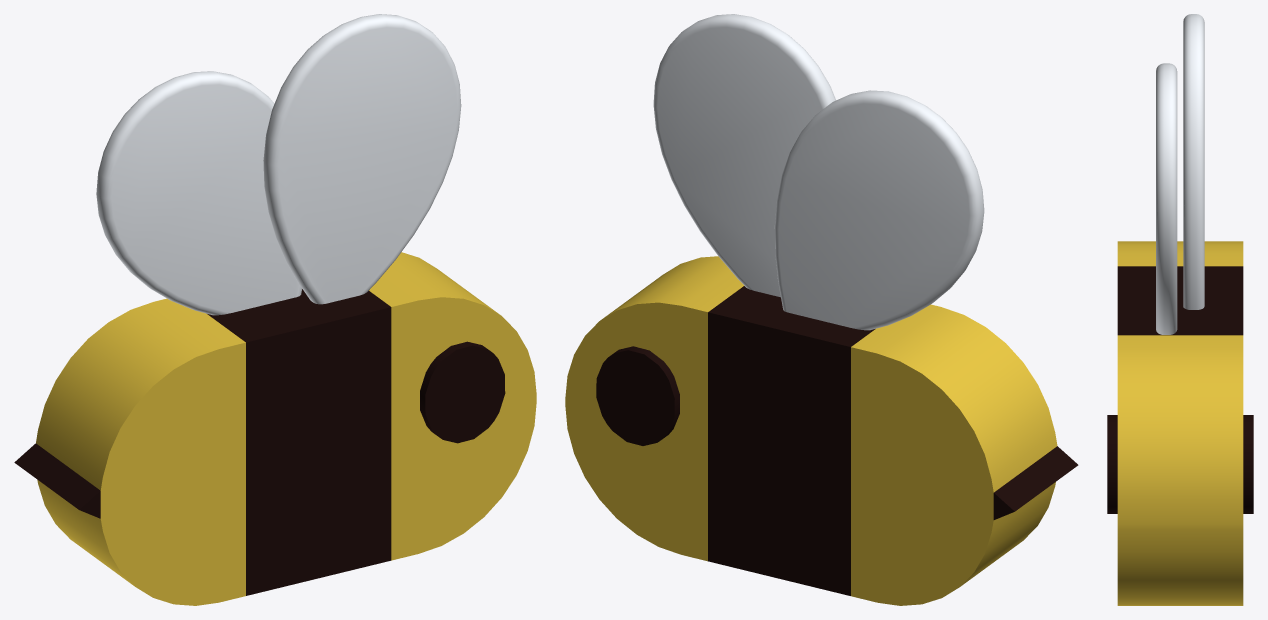
The model's file is Honeybee.gltf.
The picture shows the model from 3 angles, left to right: view 1: azimuth 30°, elevation 25°; view 2: azimuth 150°, elevation 25°; view 3: azimuth 270°, elevation 25°; orthographic projection. The views are drawn at different scales.
Parts seen in each view (by area): view 1: Cube.137, Circle.1997, Circle.1996; view 2: Cube.137, Circle.1997, Circle.1996; view 3: Cube.137, Circle.1997, Circle.1996.
Boxes of the visible parts, x1,y1,x2,y2 form: Cube.137: (14, 252, 536, 605); Circle.1997: (96, 14, 461, 315); Circle.1996: (420, 341, 505, 443); Cube.137: (565, 256, 1078, 605); Circle.1997: (653, 14, 984, 330); Circle.1996: (596, 346, 679, 445); Cube.137: (1117, 241, 1243, 605); Circle.1997: (1156, 14, 1204, 334); Circle.1996: (1107, 415, 1253, 513).
Bounding box in the file's own units: 1.47 × 1.61 × 0.422.
